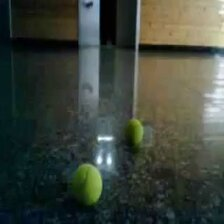tennis: (70, 164, 102, 208), (124, 117, 143, 147)
